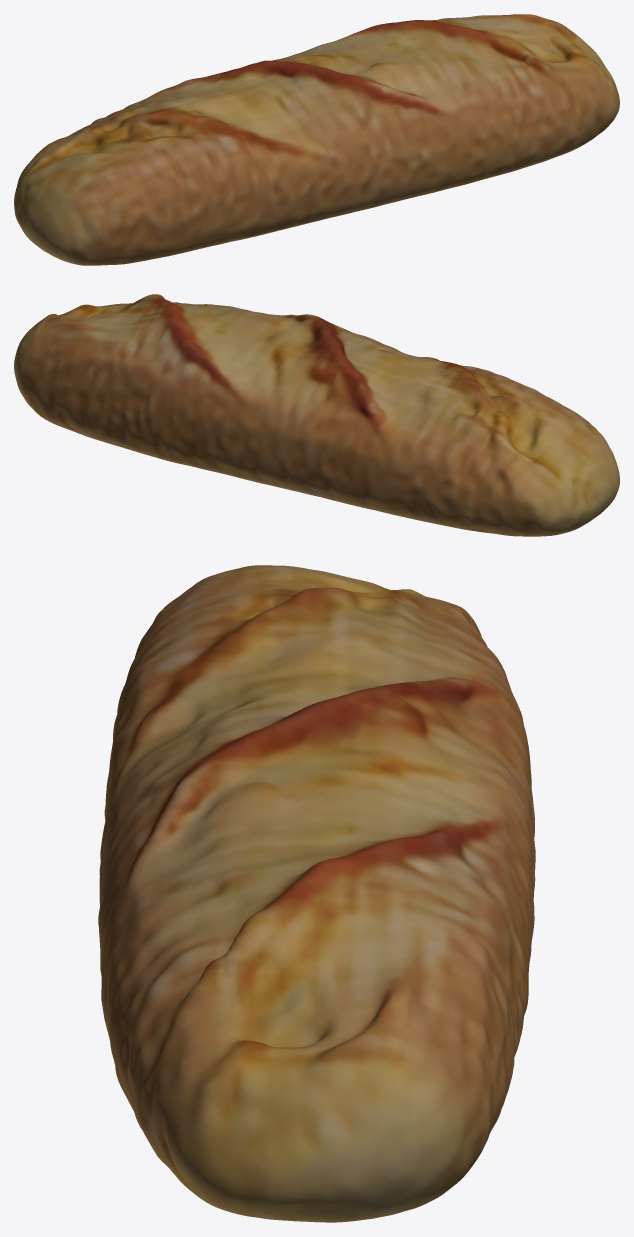
Rendered from 78b25a281bac_real_french_bread__.fbx.
The picture shows the model from 3 angles, top to bottom: view 1: azimuth 30°, elevation 25°; view 2: azimuth 150°, elevation 25°; view 3: azimuth 270°, elevation 25°; orthographic projection. The views are drawn at different scales.
Visible parts, largest first — view 1: high_poly; view 2: high_poly; view 3: high_poly.
Part boxes in pixels (bbox=[...]): high_poly: bbox=[14, 14, 619, 265]; high_poly: bbox=[14, 294, 619, 536]; high_poly: bbox=[98, 565, 535, 1222].
Size of the model in its own units: 100 by 21.3 by 32.97.
